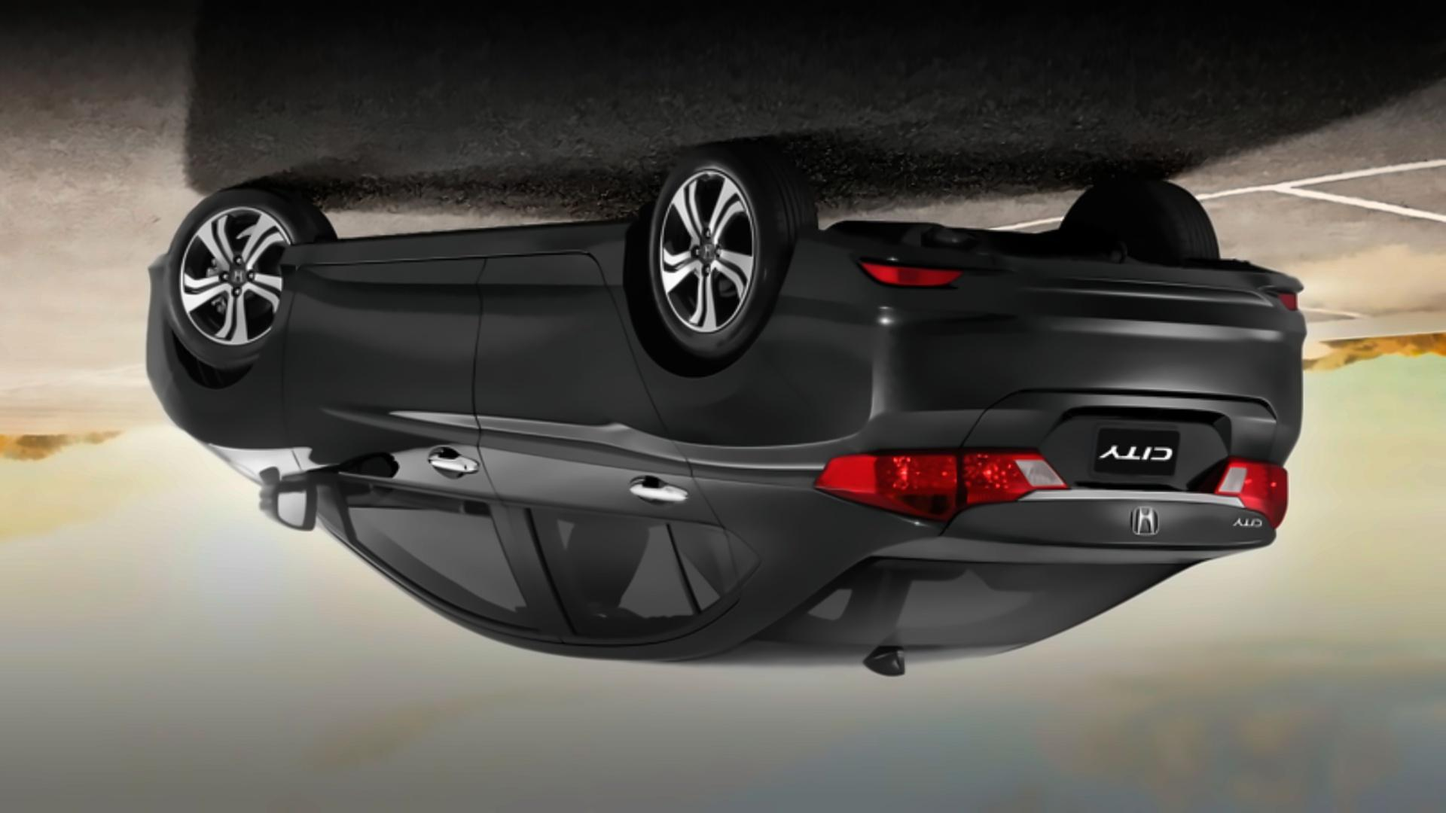Car boot: (860, 491, 1285, 575)
Driver-s door - -F-R-: (286, 249, 526, 648)
Fender - -F-R-: (162, 240, 306, 490)
Fender - -R-R-: (610, 237, 851, 563)
Front bumper: (122, 243, 190, 401)
Headlight - -L-: (1196, 447, 1296, 538)
Headlight - -R-: (803, 441, 1073, 544)
Passenger-s door - -R-R-: (489, 243, 752, 651)
Rear bumper: (756, 226, 1337, 448)
Side bumper - -R-: (274, 212, 652, 278)
Side mirror - -R-: (253, 449, 332, 535)
